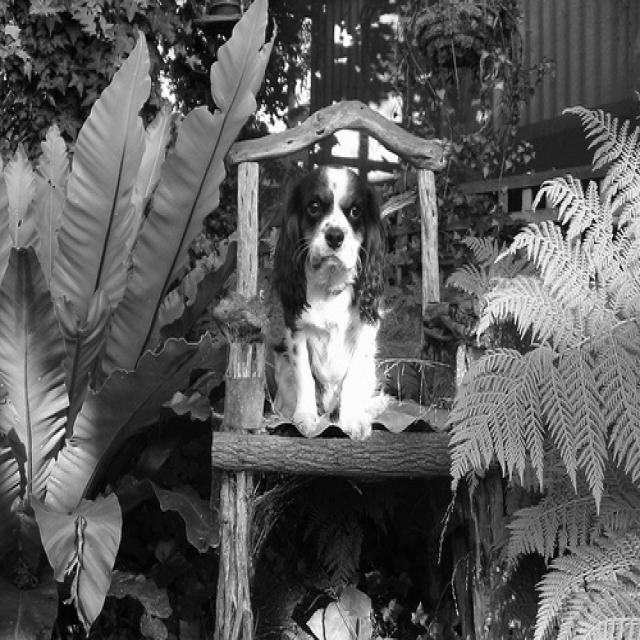dog: (270, 160, 387, 438)
